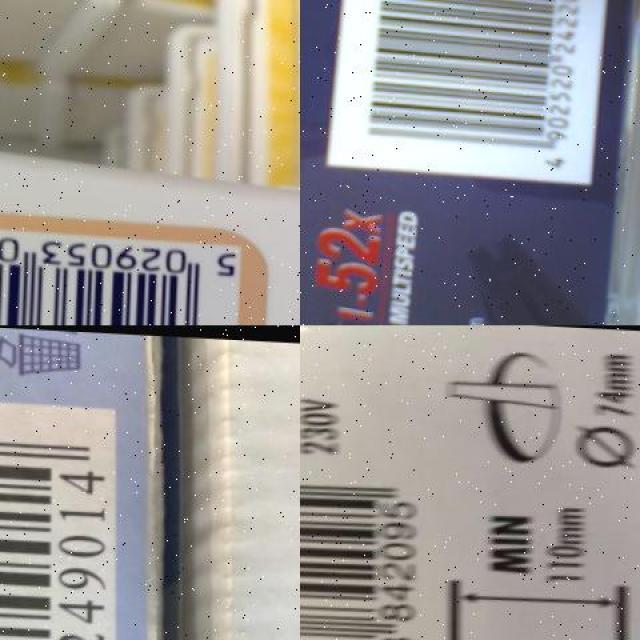Barcode: (320, 0, 609, 183), (0, 389, 132, 640), (0, 210, 241, 325), (300, 456, 444, 640)
